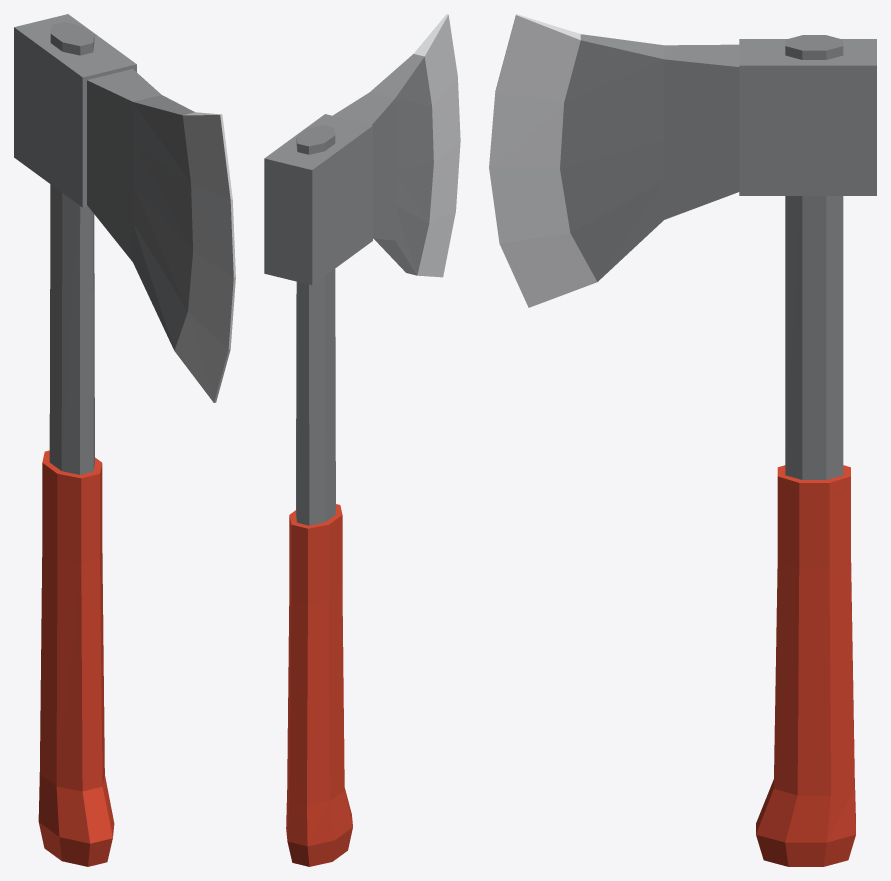
Rendered from axe.glb.
3 views of the same model, side by side, from view 1: azimuth 30°, elevation 25°; view 2: azimuth 150°, elevation 25°; view 3: azimuth 270°, elevation 25° (orthographic). The views are drawn at different scales.
Parts seen in each view (by area): view 1: Axe; view 2: Axe; view 3: Axe.
Part boxes in pixels (x1=…): Axe: x1=14, y1=14, x2=235, y2=866; Axe: x1=264, y1=14, x2=460, y2=866; Axe: x1=489, y1=14, x2=876, y2=866.
Size of the model in its own units: 0.0305 by 0.445 by 0.186.
